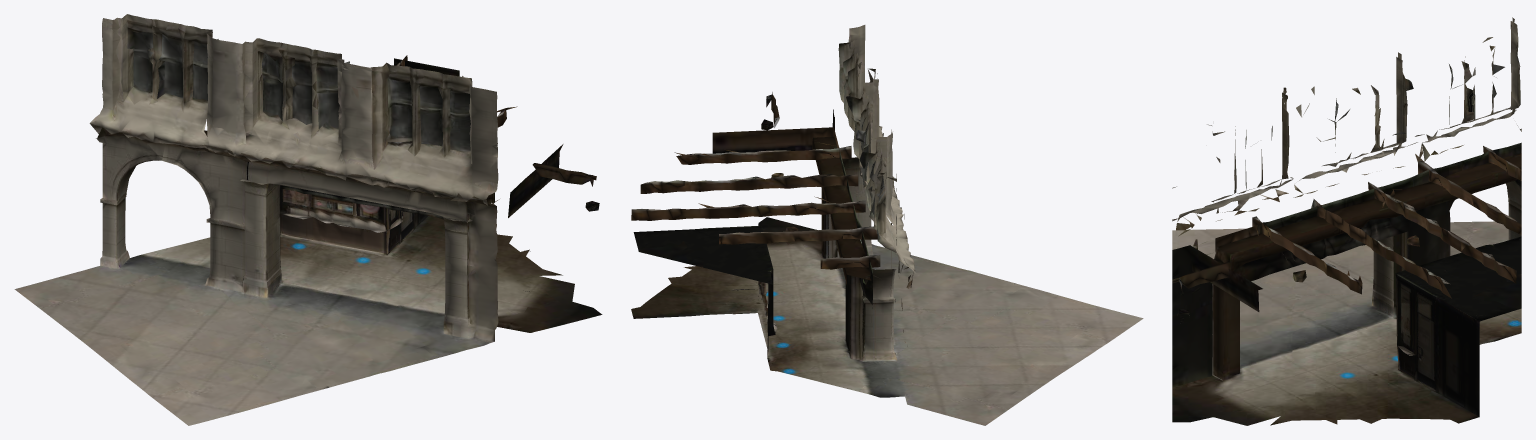
The picture shows the model from 3 angles, left to right: view 1: azimuth 30°, elevation 25°; view 2: azimuth 150°, elevation 25°; view 3: azimuth 270°, elevation 25°; orthographic projection. The views are drawn at different scales.
Bounding box in the file's own units: 14.96 × 8.74 × 10.65.
Materials: 1 (1 with a texture image).
